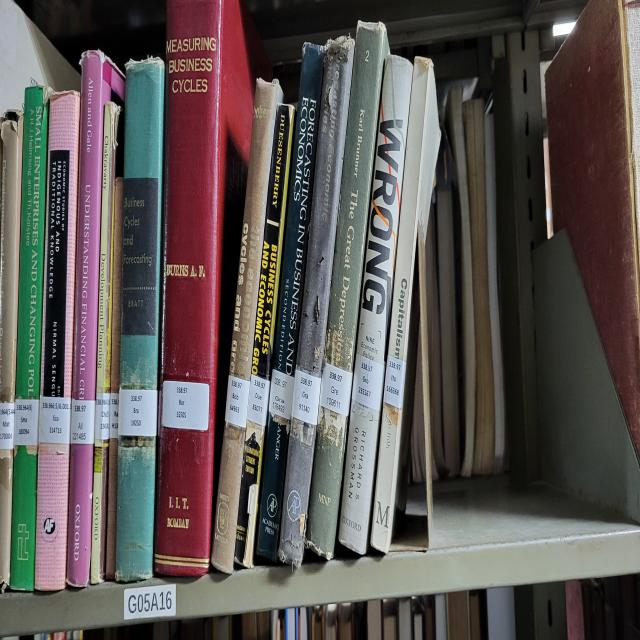Book: (154, 0, 272, 576), (305, 22, 389, 560), (279, 38, 354, 565), (256, 43, 326, 563), (339, 60, 412, 555), (370, 57, 441, 555), (66, 51, 125, 587), (235, 103, 295, 565), (115, 60, 164, 582), (35, 92, 80, 590), (10, 87, 49, 590), (229, 78, 281, 390), (90, 103, 120, 584), (0, 111, 22, 587), (211, 417, 246, 574), (111, 179, 124, 392)
Label: (161, 381, 209, 430), (119, 387, 158, 436), (352, 354, 385, 411), (320, 363, 352, 417), (292, 368, 321, 425), (39, 398, 71, 444), (269, 368, 295, 419), (225, 376, 250, 427), (384, 354, 406, 409), (14, 398, 39, 446), (248, 373, 270, 427), (70, 398, 95, 444), (95, 392, 110, 441), (0, 403, 15, 449), (110, 392, 119, 438)
